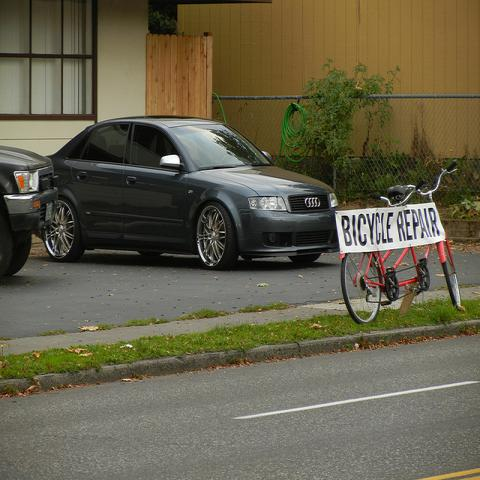car: (42, 116, 342, 271)
truck: (0, 145, 58, 278)
